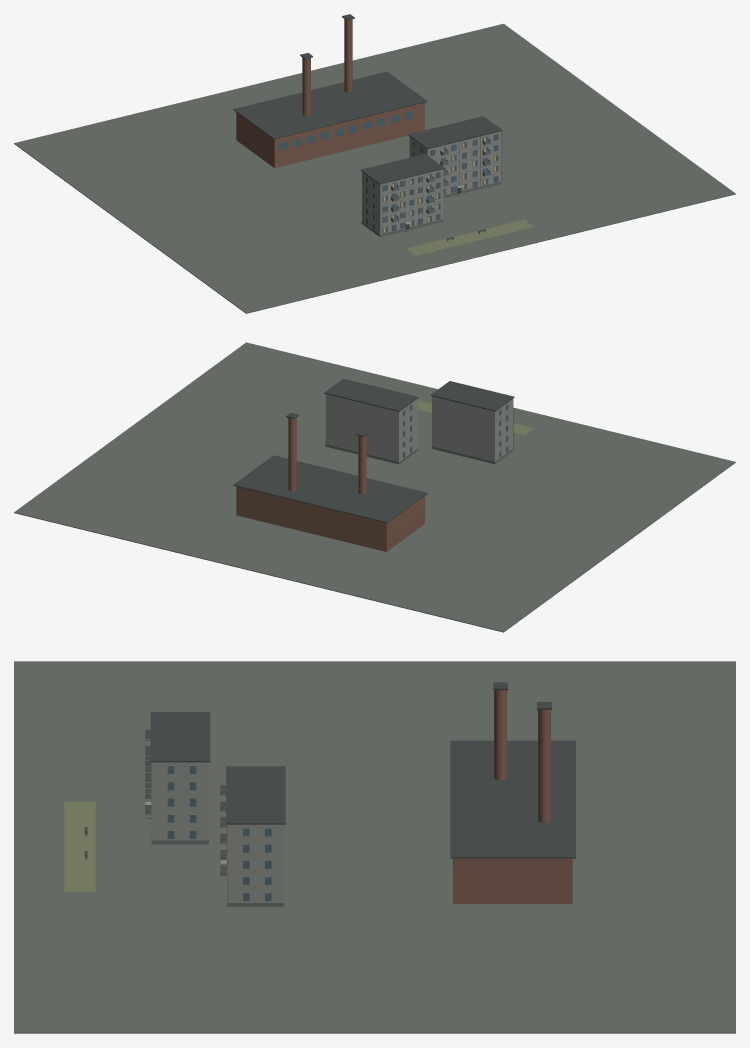
The model's file is exterior.glb.
3 views of the same model, one above another, from view 1: azimuth 30°, elevation 25°; view 2: azimuth 150°, elevation 25°; view 3: azimuth 270°, elevation 25° (orthographic). The views are drawn at different scales.
Visible parts, largest first — view 1: outside-exterior-asphalt, outside-exterior-tar-roof, outside-exterior-factory-brick, outside-exterior-concrete, outside-exterior-panel-seams, outside-exterior-window-glass, outside-exterior-winter-grass; view 2: outside-exterior-asphalt, outside-exterior-tar-roof, outside-exterior-concrete, outside-exterior-factory-brick, outside-exterior-panel-seams; view 3: outside-exterior-asphalt, outside-exterior-tar-roof, outside-exterior-concrete, outside-exterior-factory-brick, outside-exterior-winter-grass, outside-exterior-panel-seams, outside-exterior-window-glass.
Boxes of the visible parts, x1=… form: outside-exterior-asphalt: x1=14, y1=23, x2=735, y2=313; outside-exterior-tar-roof: x1=233, y1=14, x2=502, y2=239; outside-exterior-factory-brick: x1=236, y1=19, x2=424, y2=168; outside-exterior-concrete: x1=362, y1=131, x2=500, y2=234; outside-exterior-panel-seams: x1=361, y1=131, x2=501, y2=241; outside-exterior-window-glass: x1=279, y1=110, x2=498, y2=232; outside-exterior-winter-grass: x1=406, y1=219, x2=533, y2=255; outside-exterior-asphalt: x1=14, y1=342, x2=735, y2=632; outside-exterior-tar-roof: x1=233, y1=378, x2=514, y2=522; outside-exterior-concrete: x1=325, y1=394, x2=512, y2=461; outside-exterior-factory-brick: x1=236, y1=417, x2=424, y2=551; outside-exterior-panel-seams: x1=325, y1=399, x2=513, y2=464; outside-exterior-asphalt: x1=14, y1=661, x2=735, y2=1033; outside-exterior-tar-roof: x1=84, y1=682, x2=575, y2=858; outside-exterior-concrete: x1=145, y1=739, x2=283, y2=902; outside-exterior-factory-brick: x1=453, y1=690, x2=572, y2=903; outside-exterior-winter-grass: x1=64, y1=801, x2=95, y2=891; outside-exterior-panel-seams: x1=85, y1=729, x2=284, y2=906; outside-exterior-window-glass: x1=167, y1=766, x2=453, y2=901.
Size of the model in its own units: 140 by 28.85 by 115.
